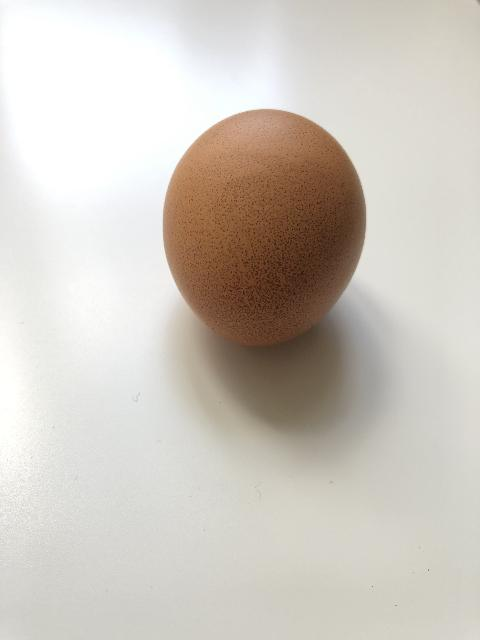Sano: (161, 107, 367, 350)
